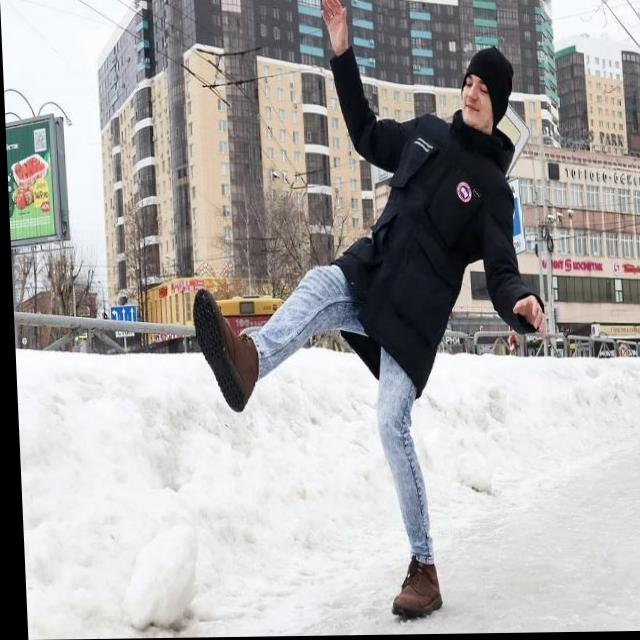fall: (179, 0, 557, 622)
